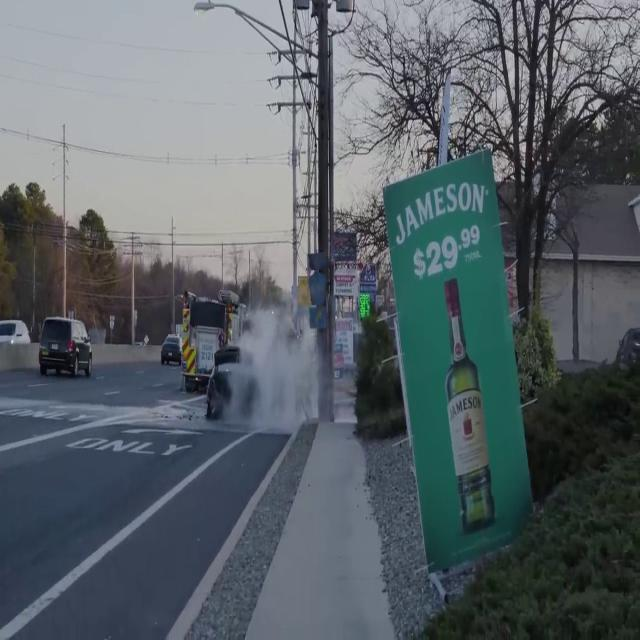Smoke: (222, 281, 325, 441)
